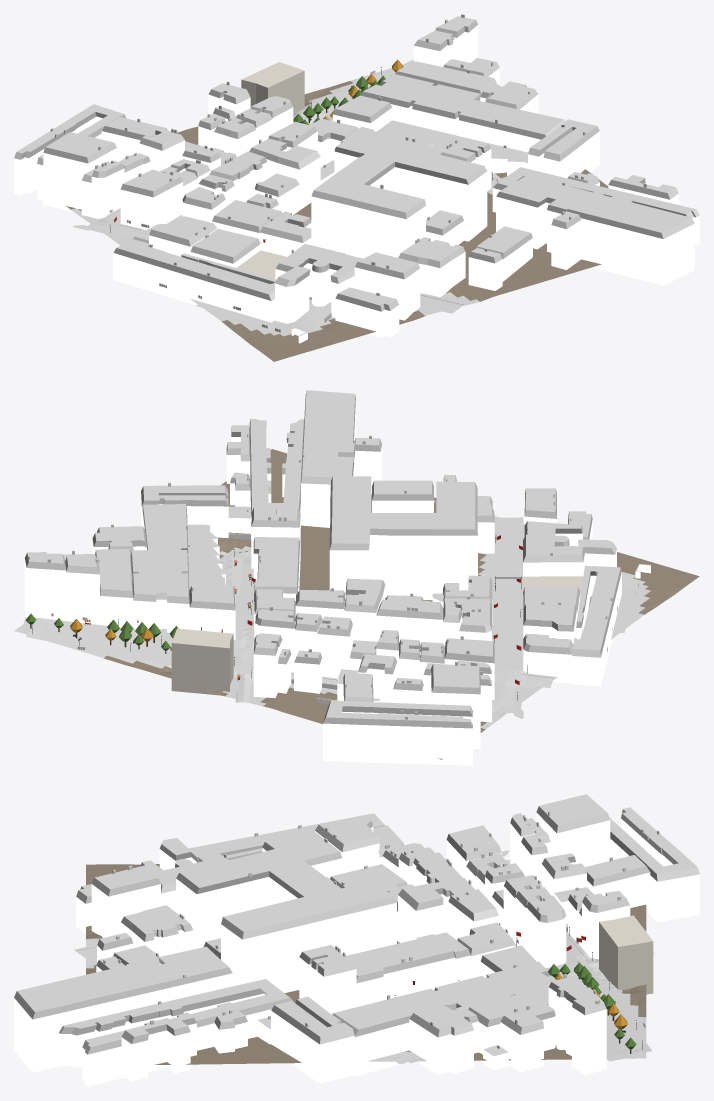
Rendered from zone_F2.glb.
3 views of the same model, one above another, from view 1: azimuth 30°, elevation 25°; view 2: azimuth 150°, elevation 25°; view 3: azimuth 270°, elevation 25° (orthographic). The views are drawn at different scales.
Visible parts, largest first — view 1: zone_F2_batiments, zone_F2_terrain, zone_F2_sol_NOCOL, zone_F2_decor_NOCOL; view 2: zone_F2_batiments, zone_F2_terrain, zone_F2_sol_NOCOL, zone_F2_decor_NOCOL; view 3: zone_F2_batiments, zone_F2_terrain, zone_F2_sol_NOCOL, zone_F2_decor_NOCOL.
Part boxes in pixels (x1,y1,x2,y2): zone_F2_batiments: [14, 14, 699, 343]; zone_F2_terrain: [66, 68, 608, 361]; zone_F2_sol_NOCOL: [72, 59, 497, 329]; zone_F2_decor_NOCOL: [109, 59, 497, 232]; zone_F2_batiments: [24, 390, 650, 765]; zone_F2_terrain: [14, 449, 699, 759]; zone_F2_sol_NOCOL: [21, 517, 634, 718]; zone_F2_decor_NOCOL: [25, 535, 527, 700]; zone_F2_batiments: [14, 794, 699, 1086]; zone_F2_terrain: [86, 860, 646, 1064]; zone_F2_sol_NOCOL: [74, 850, 654, 1064]; zone_F2_decor_NOCOL: [394, 927, 642, 1053].
Bounding box in the file's own units: 228 × 40.59 × 257.
